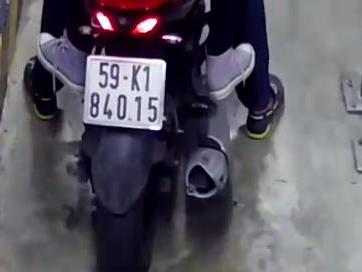num_plate: (83, 53, 165, 137)
